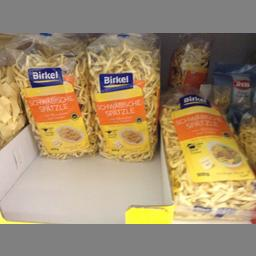pasta: (160, 82, 255, 217), (4, 34, 94, 156), (85, 34, 160, 159)
